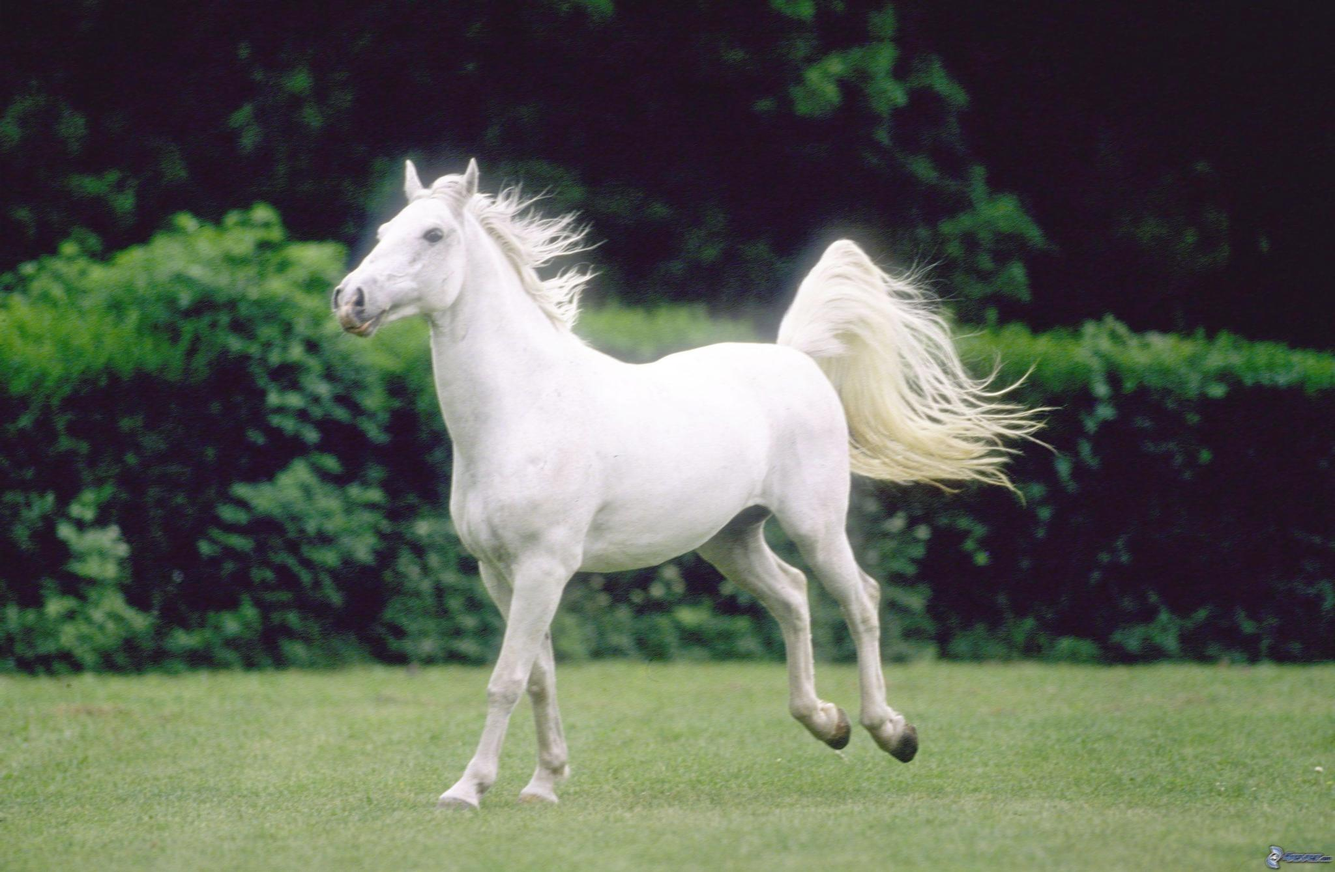horse: (321, 146, 1063, 817)
